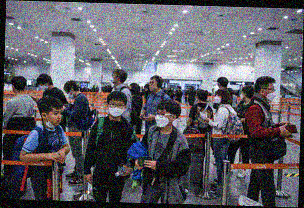mask_weared_incorrect: (46, 108, 62, 126)
with_mask: (154, 109, 170, 129), (107, 100, 124, 117), (265, 85, 275, 103), (63, 91, 75, 101), (213, 93, 221, 105), (38, 83, 48, 91), (109, 73, 116, 84), (238, 91, 245, 100)
without_mask: (148, 80, 158, 92)
